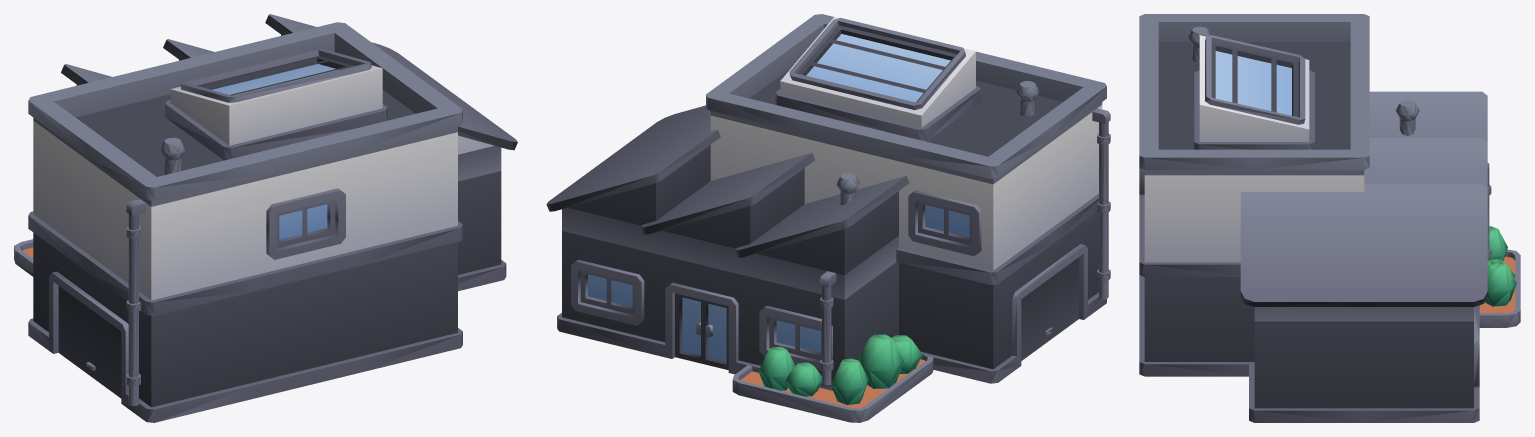
The model's file is ki_building_t.fbx.
3 views of the same model, side by side, from view 1: azimuth 30°, elevation 25°; view 2: azimuth 150°, elevation 25°; view 3: azimuth 270°, elevation 25° (orthographic). The views are drawn at different scales.
Parts seen in each view (by area): view 1: ki_building_t_LOD0; view 2: ki_building_t_LOD0; view 3: ki_building_t_LOD0.
Boxes of the visible parts, <box> form: ki_building_t_LOD0: <box>14,14,517,422</box>; ki_building_t_LOD0: <box>546,14,1110,422</box>; ki_building_t_LOD0: <box>1139,14,1520,422</box>.
Size of what is drawn, in the model's own units: 14.63 by 8.62 by 11.82.
1 material, 1 textured.
